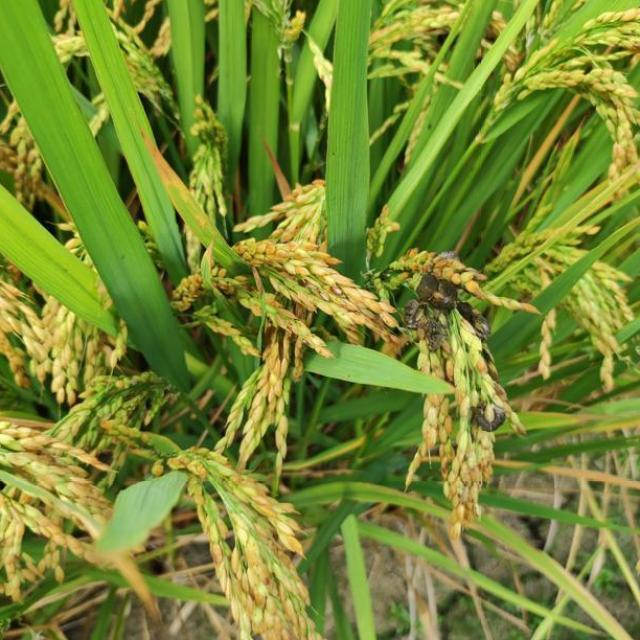Leaf_Scald: (402, 274, 489, 350), (470, 397, 509, 433)
